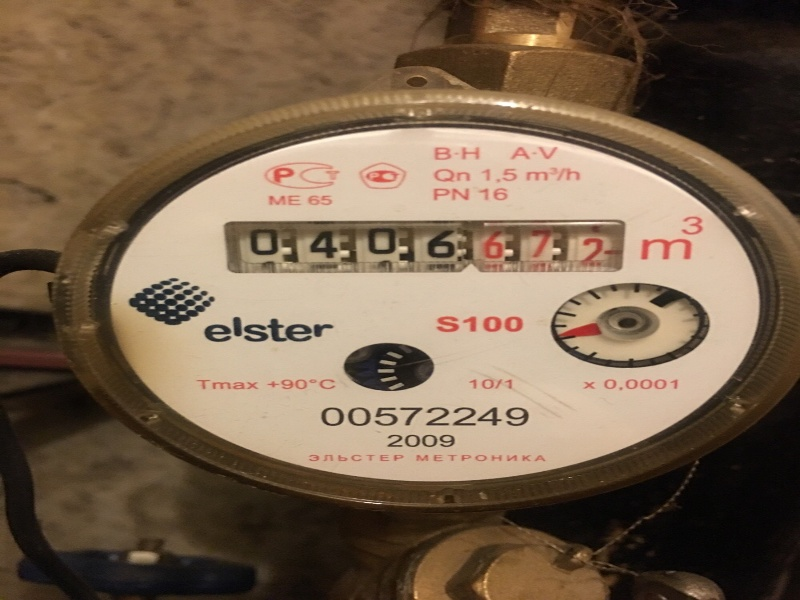meter: (229, 206, 617, 282)
